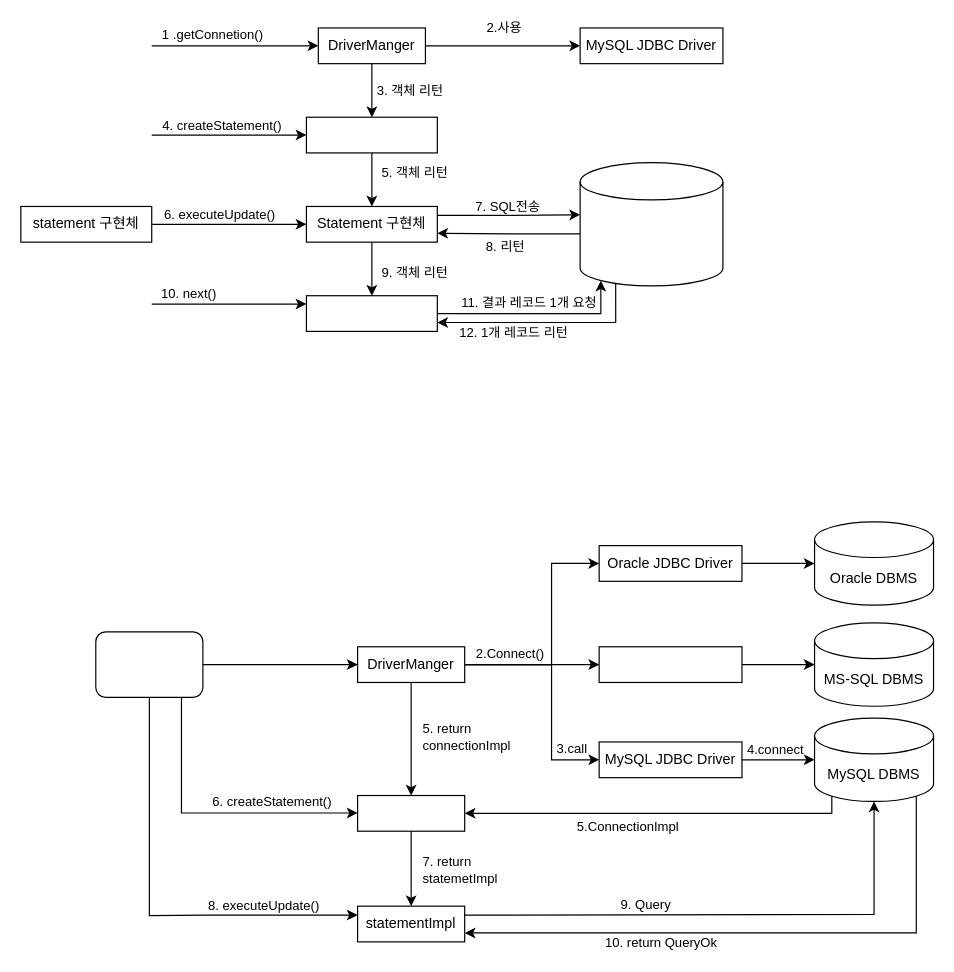
Image size: 954x972. Some labels were removed from this diagram. Here are the shapes that lost their labels. From the top down, the centre of each, then its label:
At point (371, 134): "Connection 구현체".
At point (651, 233): "MySQL".
At point (371, 313): "ResultSet 구현체".
At point (149, 664): "App".
At point (670, 664): "MS-SQL JDBC Driver".
At point (410, 812): "ConnectionImpl".
